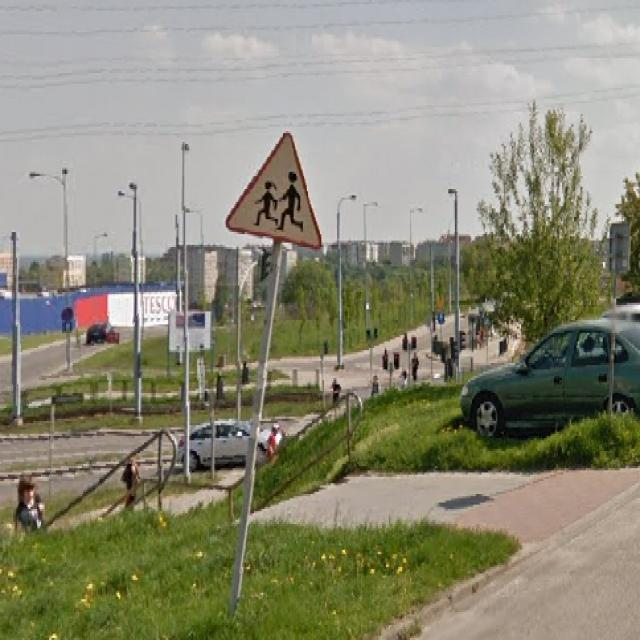Dzieci: (228, 127, 322, 249)
